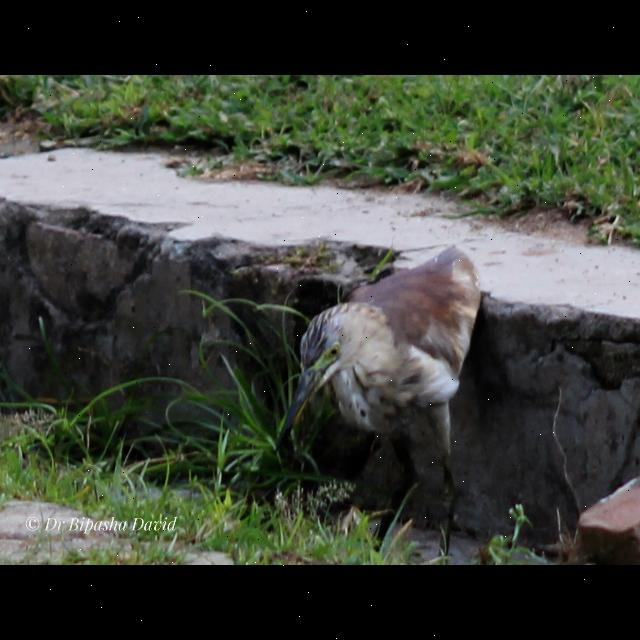heron: (278, 243, 490, 551)
